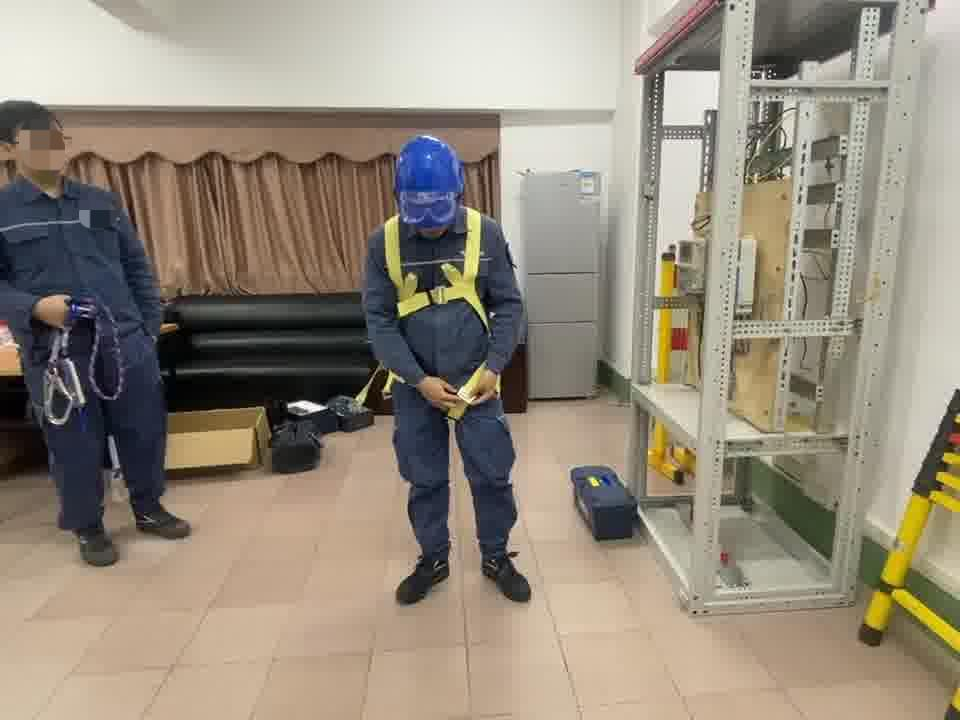halt: (396, 137, 469, 233)
noear: (3, 139, 22, 167)
unhalt: (3, 103, 72, 188)
